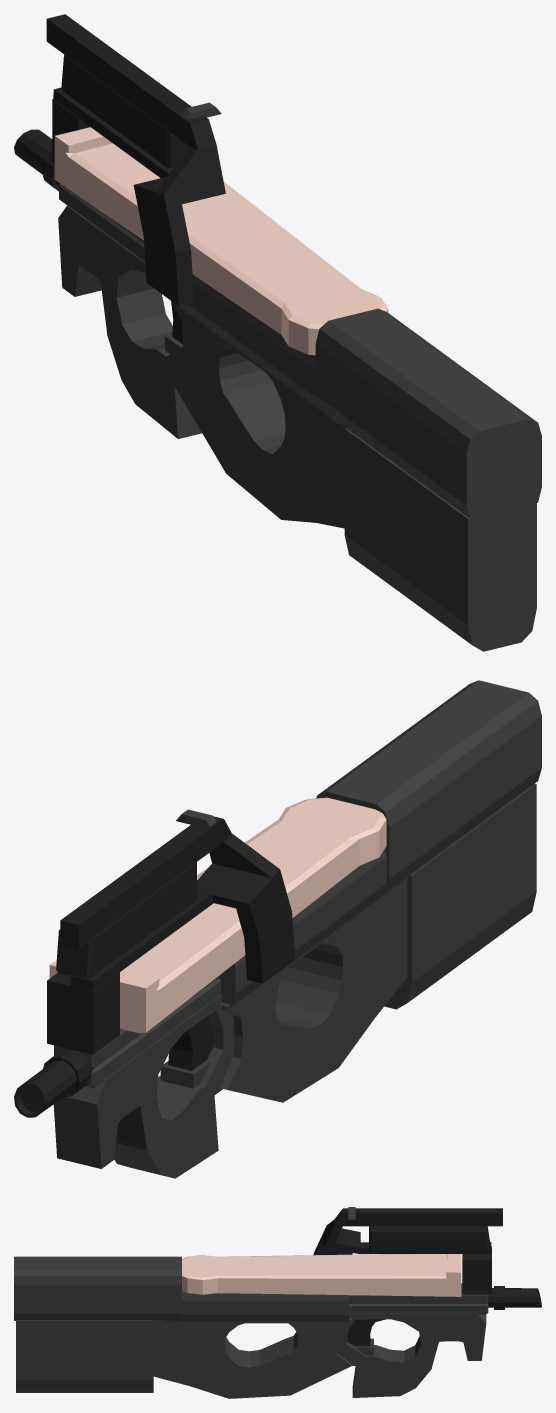
File: gun_smg_03.glb
3 renders of one model, top to bottom at view 1: azimuth 30°, elevation 25°; view 2: azimuth 150°, elevation 25°; view 3: azimuth 270°, elevation 25°, orthographic. The views are drawn at different scales.
Visible parts, largest first — view 1: smg_03; view 2: smg_03; view 3: smg_03.
Part boxes in pixels (box(x1,y1,x2,y2)): smg_03: box(14, 14, 541, 651); smg_03: box(14, 680, 541, 1178); smg_03: box(14, 1207, 541, 1398).
Bounding box in the file's own units: 0.0575 × 0.1671 × 0.44.
